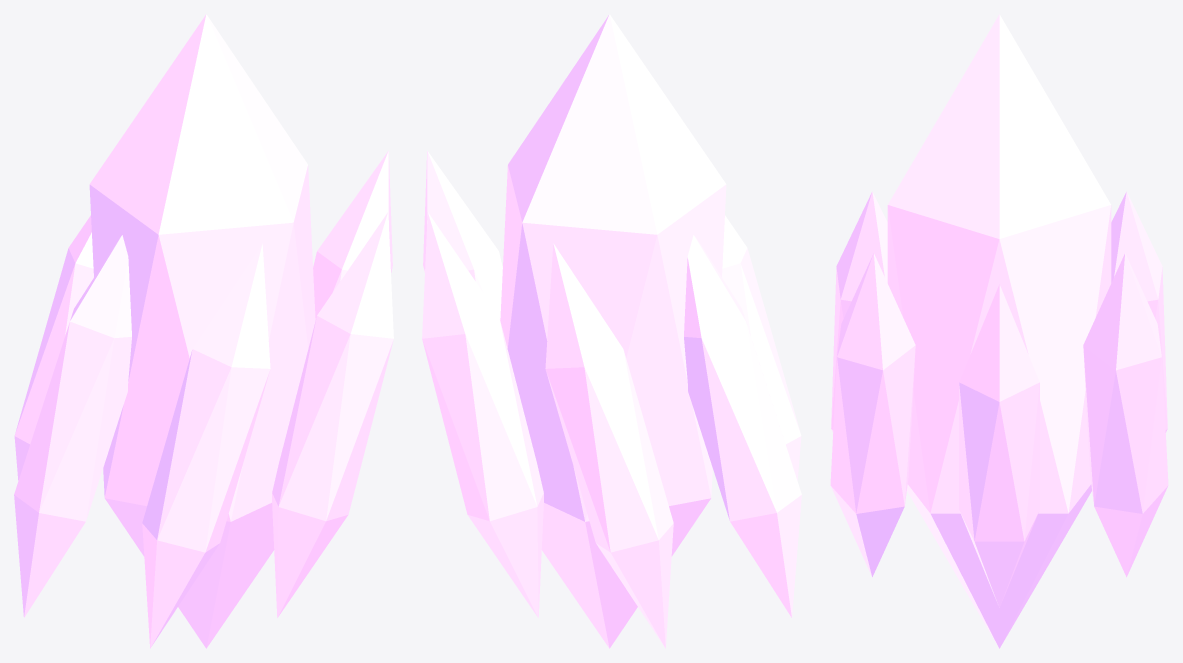
The model's file is arcane_core_b.glb.
3 views of the same model, side by side, from view 1: azimuth 30°, elevation 25°; view 2: azimuth 150°, elevation 25°; view 3: azimuth 270°, elevation 25° (orthographic).
Parts seen in each view (by area): view 1: arcane_core_b; view 2: arcane_core_b; view 3: arcane_core_b.
Boxes of the visible parts, x1,y1,x2,y2 form: arcane_core_b: [14, 14, 393, 648]; arcane_core_b: [422, 14, 801, 648]; arcane_core_b: [830, 14, 1168, 648].
Size of the model in its own units: 0.5838 by 0.96 by 0.4632.
